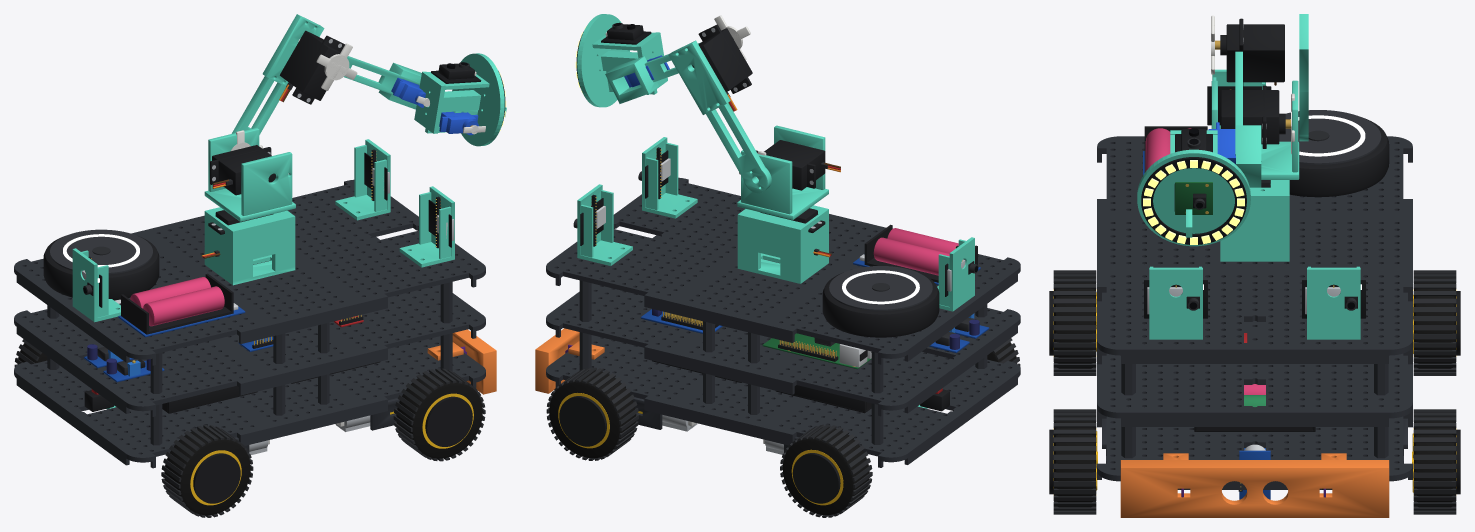
The model's file is bicho_V1.glb.
3 renders of one model, left to right at view 1: azimuth 30°, elevation 25°; view 2: azimuth 150°, elevation 25°; view 3: azimuth 270°, elevation 25°, orthographic. The views are drawn at different scales.
Parts seen in each view (by area): view 1: P20 cubierta, P20 superior, P20 inferior, Rueda 65 mm, Rueda 65 mm.002, Parlante omnidireccional, P07 Torreta, UPS LX-2BUPS, P14 Cabeza de muñeca, P08 Horquilla, Servo MG995.002, P09 Eslabón 1 (+13 smaller); view 2: P20 cubierta, P20 inferior, P20 superior, Parlante omnidireccional, Rueda 65 mm.003, Rueda 65 mm.001, P07 Torreta, P09 Eslabón 1, P14 Cabeza de muñeca, P08 Horquilla, UPS LX-2BUPS, Servo MG995.002 (+12 smaller); view 3: P20 cubierta, P20 superior, P05 Parachoques, P20 inferior, Parlante omnidireccional, Rueda 65 mm.002, Rueda 65 mm.003, Rueda 65 mm, Rueda 65 mm.001, P14 Cabeza de muñeca, P07 Torreta, Servo MG995.002 (+16 smaller).
Boxes of the visible parts, x1,y1,x2,y2 form: P20 cubierta: (14,179,485,365); P20 superior: (14,237,485,416); P20 inferior: (14,336,485,468); Rueda 65 mm: (161,425,253,517); Rueda 65 mm.002: (393,368,485,461); Parlante omnidireccional: (43,229,159,300); P07 Torreta: (204,207,295,285); UPS LX-2BUPS: (118,273,245,337); P14 Cabeza de muñeca: (414,53,504,146); P08 Horquilla: (204,128,295,221); Servo MG995.002: (279,30,357,104); P09 Eslabón 1: (231,14,324,134); P20 cubierta: (546,177,1020,364); P20 inferior: (546,335,1020,467); P20 superior: (546,235,1020,416); Parlante omnidireccional: (822,266,939,337); Rueda 65 mm.003: (546,367,638,460); Rueda 65 mm.001: (780,424,872,517); P07 Torreta: (737,205,828,283); P09 Eslabón 1: (668,40,771,193); P14 Cabeza de muñeca: (577,14,667,107); P08 Horquilla: (737,125,828,219); UPS LX-2BUPS: (853,224,980,284); Servo MG995.002: (692,15,752,111); P20 cubierta: (1097,136,1412,363); P20 superior: (1097,292,1412,426); P05 Parachoques: (1120,453,1389,517); P20 inferior: (1097,355,1412,489); Parlante omnidireccional: (1279,110,1389,197); Rueda 65 mm.002: (1049,409,1097,514); Rueda 65 mm.003: (1412,409,1460,514); Rueda 65 mm: (1049,270,1096,375); Rueda 65 mm.001: (1413,270,1460,375); P14 Cabeza de muñeca: (1137,130,1250,246); P07 Torreta: (1220,180,1289,261); Servo MG995.002: (1211,15,1284,86).
Bounding box in the file's own units: 0.3649 × 0.3268 × 0.2604.
